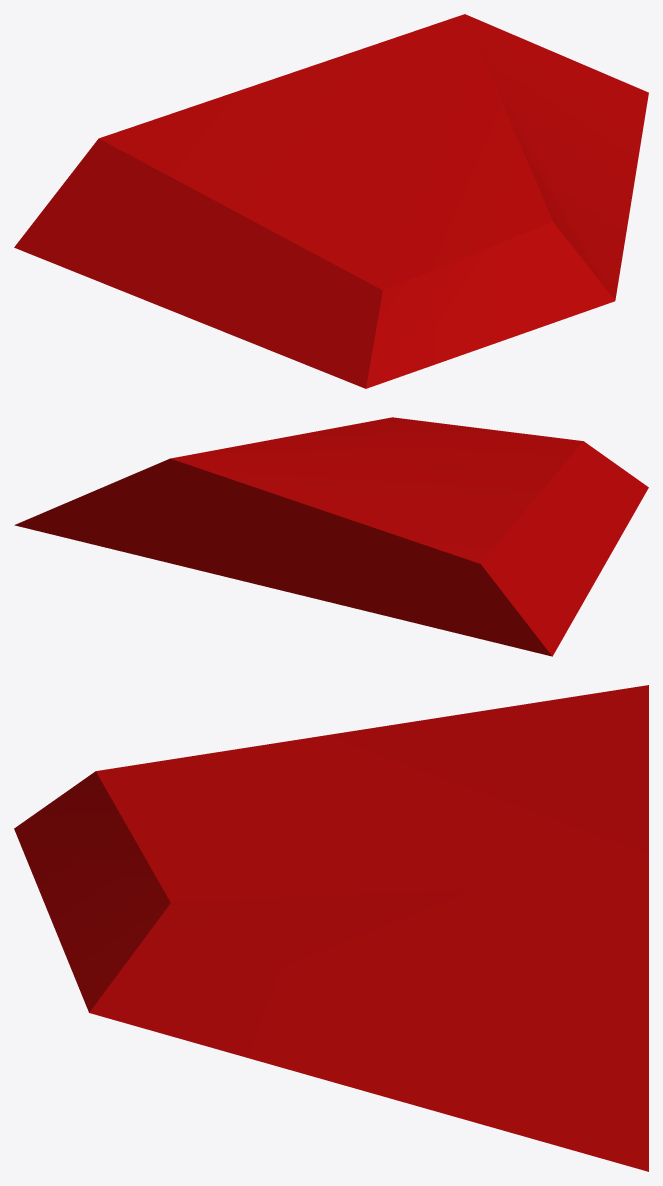
Rendered from UCX_stoneWallJ_02.fbx.
The picture shows the model from 3 angles, top to bottom: view 1: azimuth 30°, elevation 25°; view 2: azimuth 150°, elevation 25°; view 3: azimuth 270°, elevation 25°; orthographic projection. The views are drawn at different scales.
Parts seen in each view (by area): view 1: UCX_stoneWallJ_02; view 2: UCX_stoneWallJ_02; view 3: UCX_stoneWallJ_02.
Part boxes in pixels (x1,y1,x2,y2): UCX_stoneWallJ_02: (14, 14, 648, 388); UCX_stoneWallJ_02: (14, 417, 648, 656); UCX_stoneWallJ_02: (14, 685, 648, 1171).
Bounding box in the file's own units: 2.19 × 0.4066 × 1.39.
